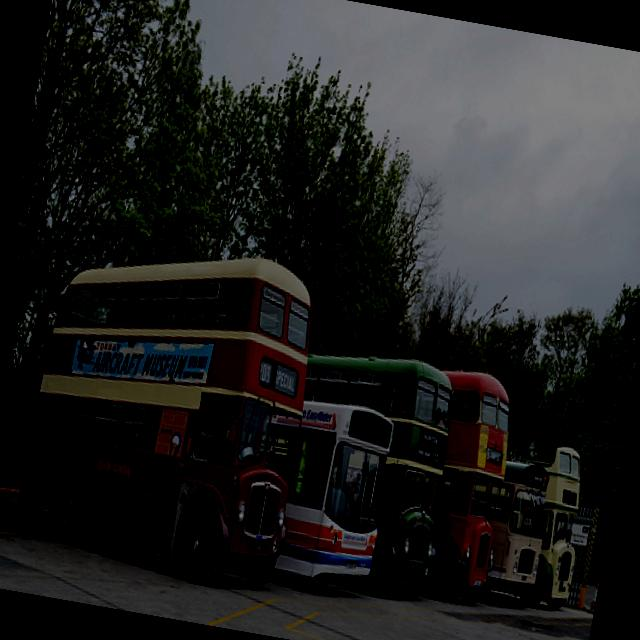Vehicle: (8, 222, 332, 598), (273, 345, 467, 600), (401, 369, 523, 606), (274, 397, 399, 593), (518, 440, 594, 612), (472, 458, 556, 598)
